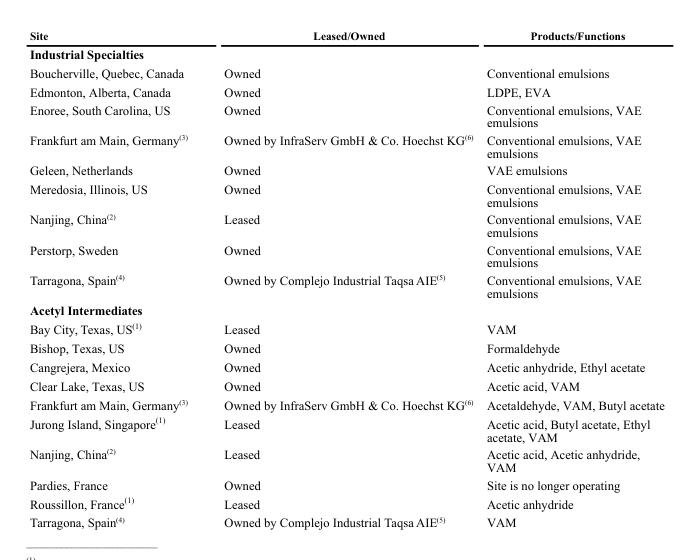table: (28, 29, 663, 529)
table column: (205, 29, 479, 529), (479, 29, 663, 529), (28, 29, 205, 529)
table column header: (28, 29, 663, 44)
table projected row header: (28, 44, 663, 63), (28, 301, 663, 318)
table row: (28, 130, 663, 161), (28, 179, 663, 210), (28, 270, 663, 301), (28, 413, 663, 444), (28, 444, 663, 475), (28, 100, 663, 130), (28, 210, 663, 240), (28, 240, 663, 270), (28, 318, 663, 338), (28, 492, 663, 512), (28, 44, 663, 63), (28, 63, 663, 82), (28, 338, 663, 357), (28, 357, 663, 376), (28, 376, 663, 395), (28, 82, 663, 100), (28, 161, 663, 179), (28, 395, 663, 413), (28, 301, 663, 318), (28, 475, 663, 492), (28, 512, 663, 529), (28, 29, 663, 44)
